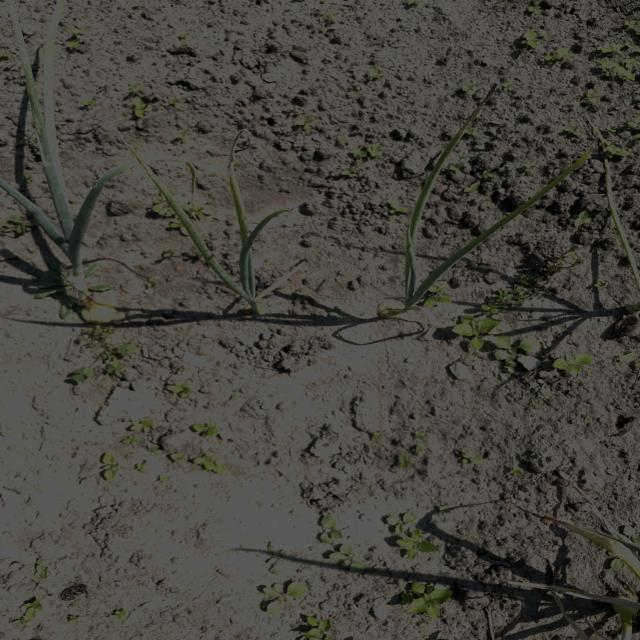Onion: (0, 30, 130, 322), (374, 166, 531, 324), (161, 160, 289, 322)
weed: (454, 310, 593, 380), (302, 510, 376, 580), (60, 326, 141, 386), (385, 508, 440, 560), (182, 416, 224, 479), (255, 577, 322, 616), (405, 575, 453, 623), (290, 616, 339, 640), (91, 452, 126, 480)
